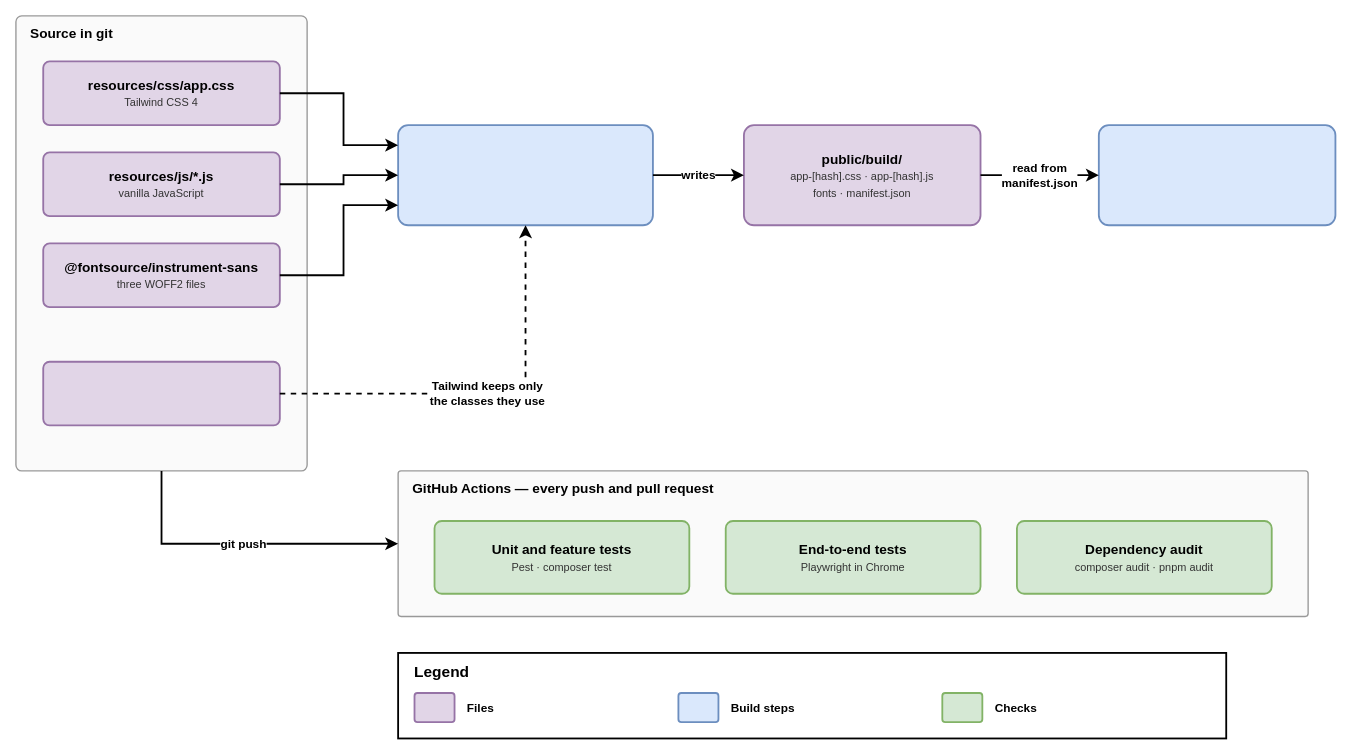
The diagram is 1352 pixels wide and 755 high, and some of its shapes have lost their labels. Here are the shapes that lost their labels. From the top down, the centre of each, then its label:
the point at 525,175: pnpm run build Vite 8 + laravel-vite-plugin minifies, adds content hashes
the point at 1216,175: @vite and @fonts in the layout print the hashed names, each with the CSP nonce
the point at 161,393: resources/views Blade templates
